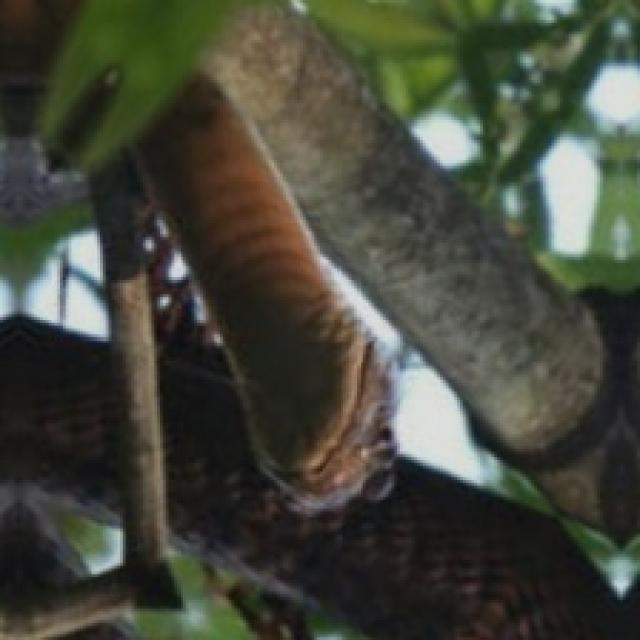king cobra: (137, 9, 637, 534)
